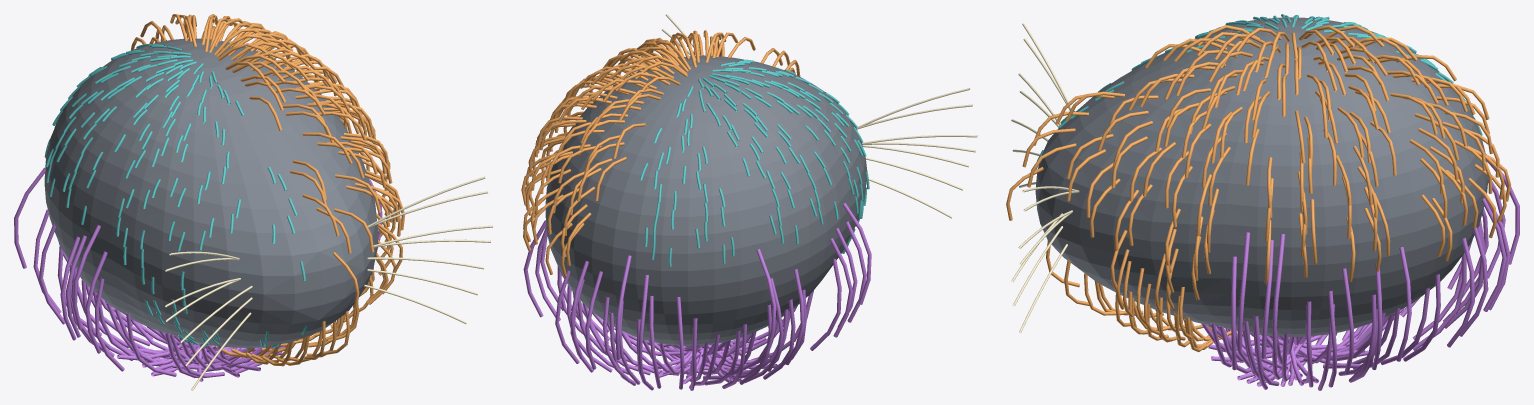
Rendered from procedural-groom-truth.glb.
3 renders of one model, left to right at view 1: azimuth 30°, elevation 25°; view 2: azimuth 150°, elevation 25°; view 3: azimuth 270°, elevation 25°, orthographic. The views are drawn at different scales.
Parts seen in each view (by area): view 1: Carrier, ShortCoatHighPuffMesh, RuffMesh, ShortCoatLowPuffMesh, MystacialWhiskersMesh; view 2: Carrier, RuffMesh, ShortCoatHighPuffMesh, ShortCoatLowPuffMesh, MystacialWhiskersMesh; view 3: Carrier, ShortCoatHighPuffMesh, RuffMesh, MystacialWhiskersMesh, ShortCoatLowPuffMesh.
Part boxes in pixels (x1,y1,x2,y2): Carrier: [44, 38, 378, 347]; ShortCoatHighPuffMesh: [130, 14, 404, 366]; RuffMesh: [14, 167, 382, 381]; ShortCoatLowPuffMesh: [44, 44, 308, 349]; MystacialWhiskersMesh: [165, 176, 492, 390]; Carrier: [545, 55, 867, 345]; RuffMesh: [523, 202, 871, 390]; ShortCoatHighPuffMesh: [521, 30, 800, 276]; ShortCoatLowPuffMesh: [640, 59, 869, 266]; MystacialWhiskersMesh: [662, 14, 977, 218]; Carrier: [1035, 17, 1488, 336]; ShortCoatHighPuffMesh: [1006, 25, 1510, 352]; RuffMesh: [1201, 154, 1519, 390]; MystacialWhiskersMesh: [1011, 23, 1079, 333]; ShortCoatLowPuffMesh: [1036, 14, 1482, 169].
Size of the model in its own units: 2.67 by 2.55 by 3.33.
